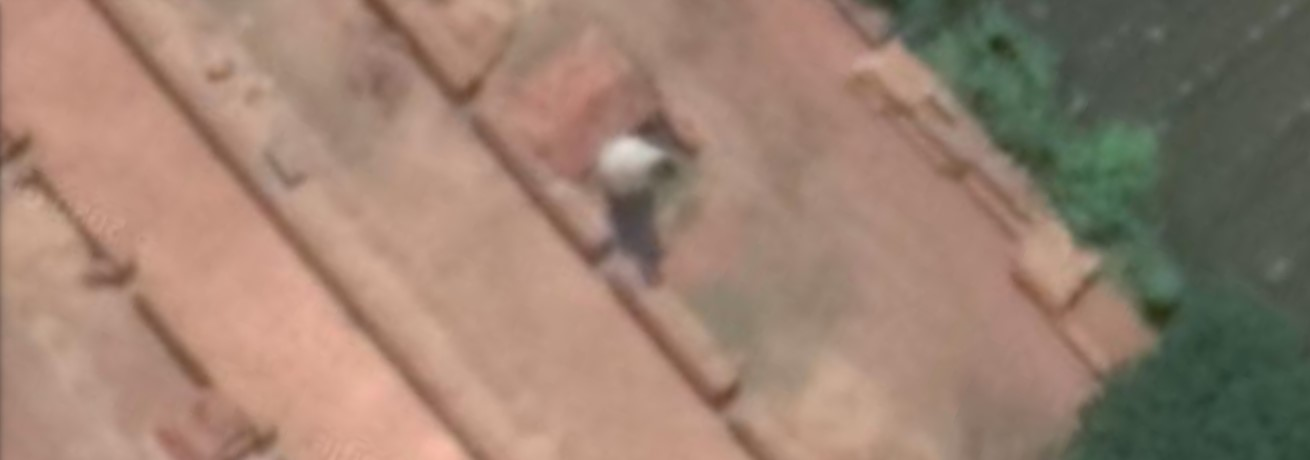kiln: (381, 40, 828, 349)
